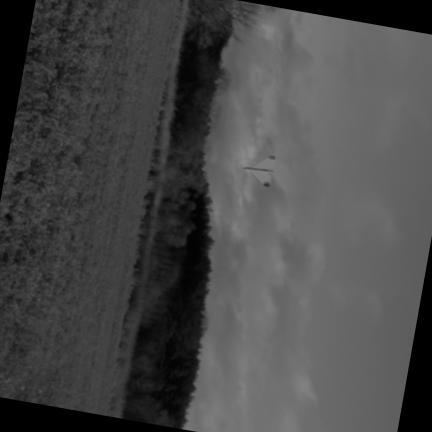Shahed: (244, 155, 274, 187)
